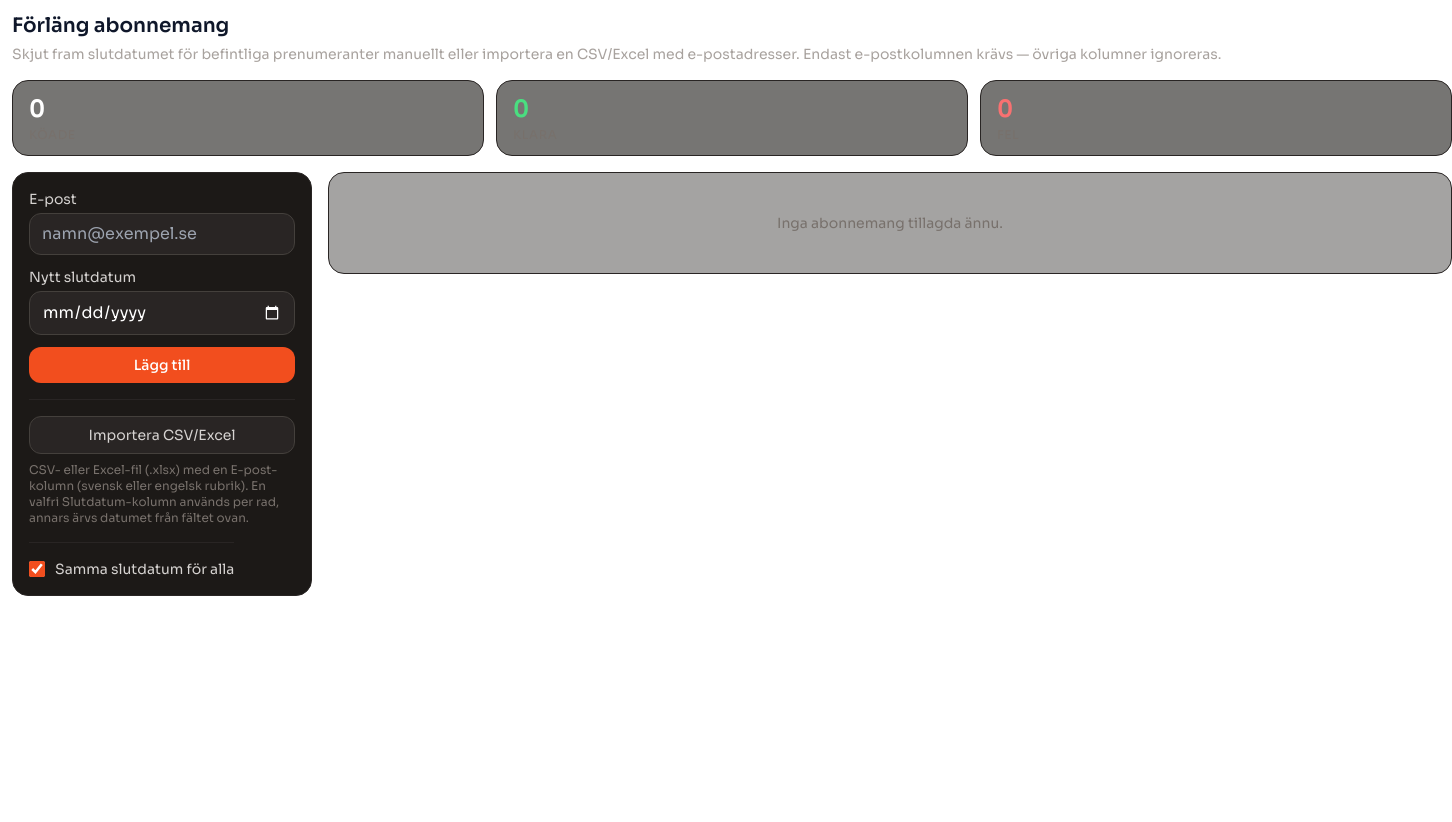
Test: ExtendSubscription › soft-deletes a selected row and restores it via undo
Type "anna@x.se" into the field with placeholder "namn@exempel.se". click: (162, 234)
box: x1=29 y1=213 x2=295 y2=255
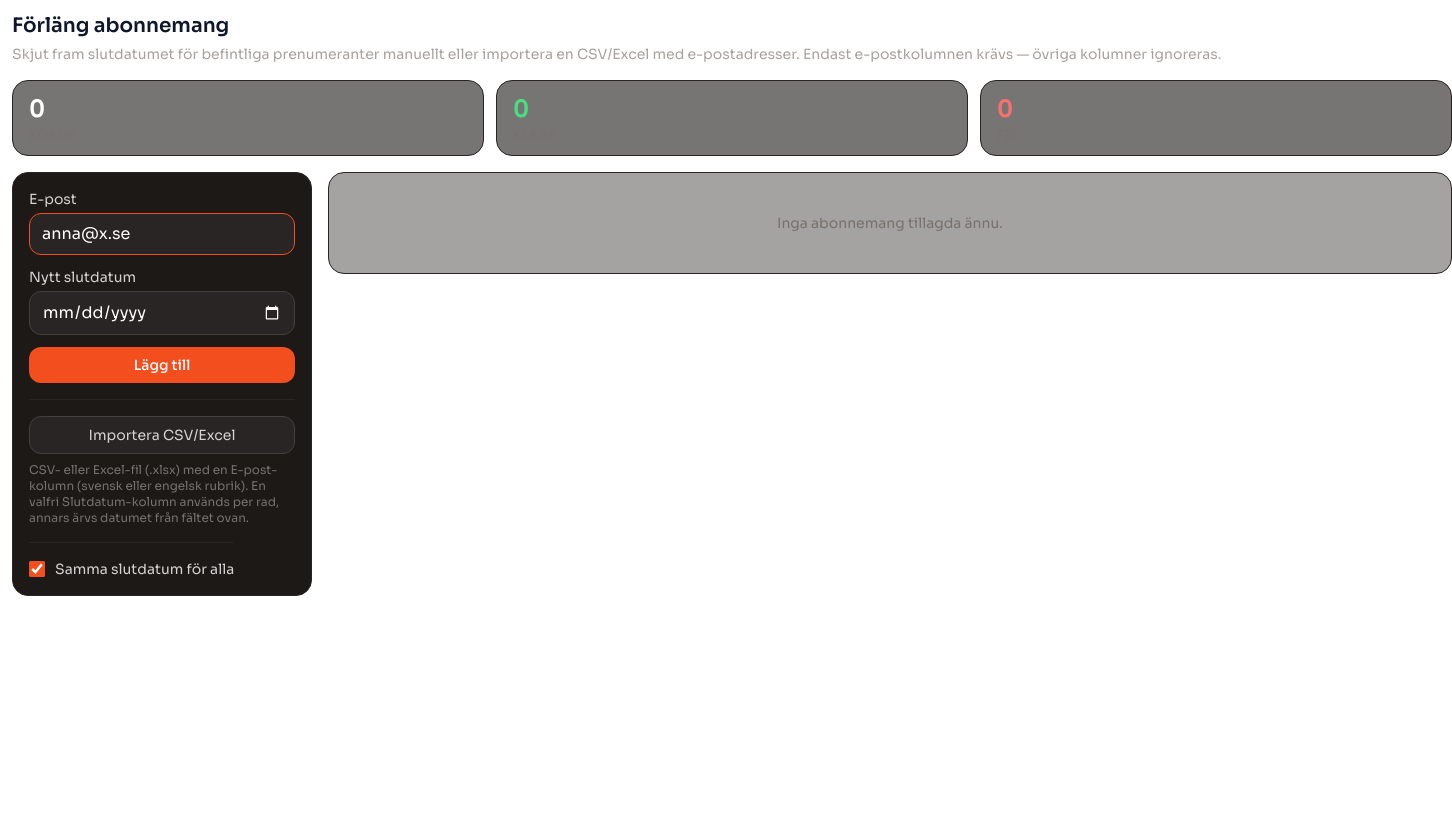
Click the button "Lägg till". click: (162, 365)
box: x1=29 y1=347 x2=295 y2=383
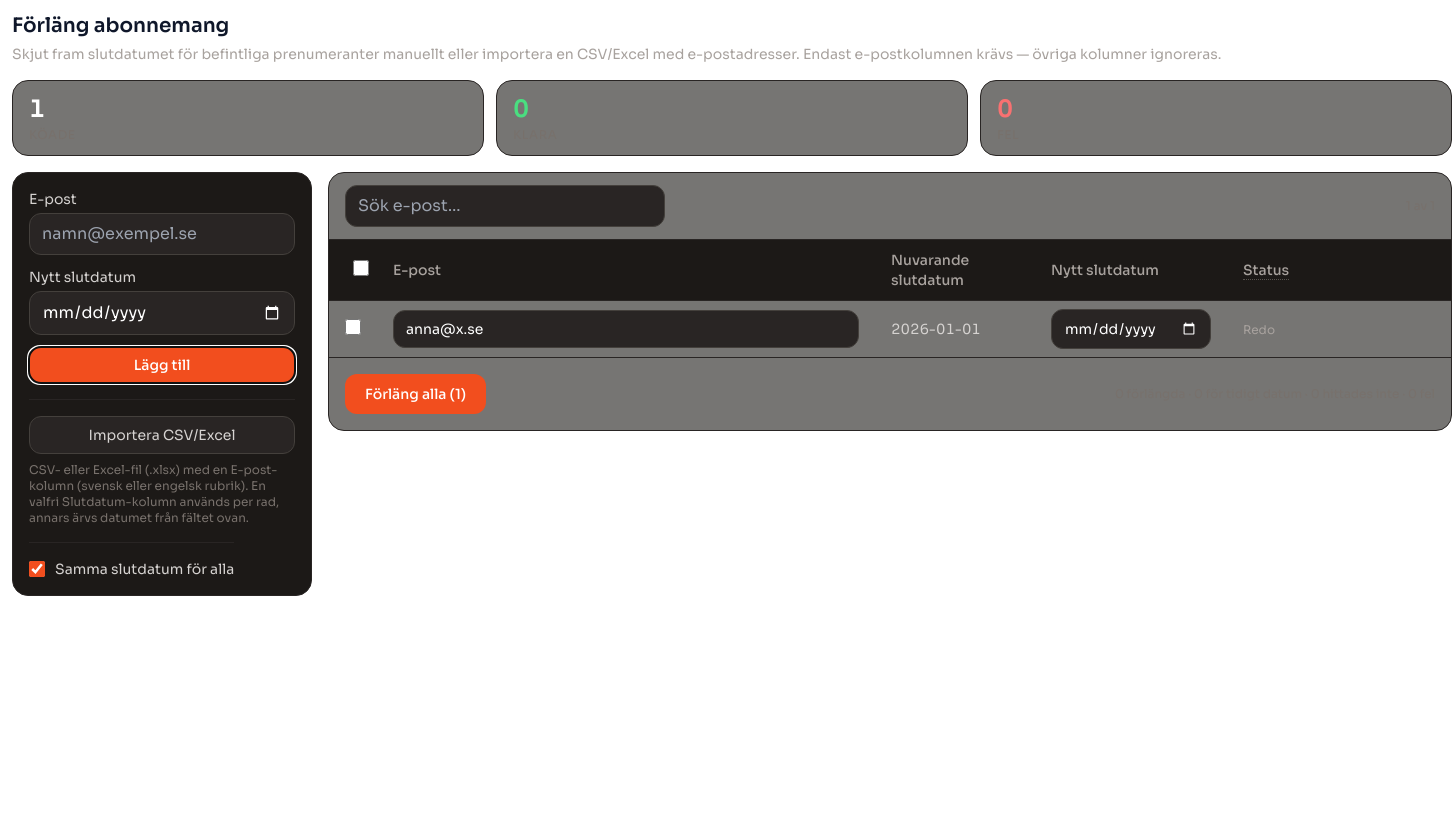
Result: the field showing "anna@x.se" is shown at x1=393 y1=310 x2=859 y2=348
Click the checkbox named "markera anna@x.se". click: (353, 326)
box: x1=345 y1=318 x2=361 y2=334
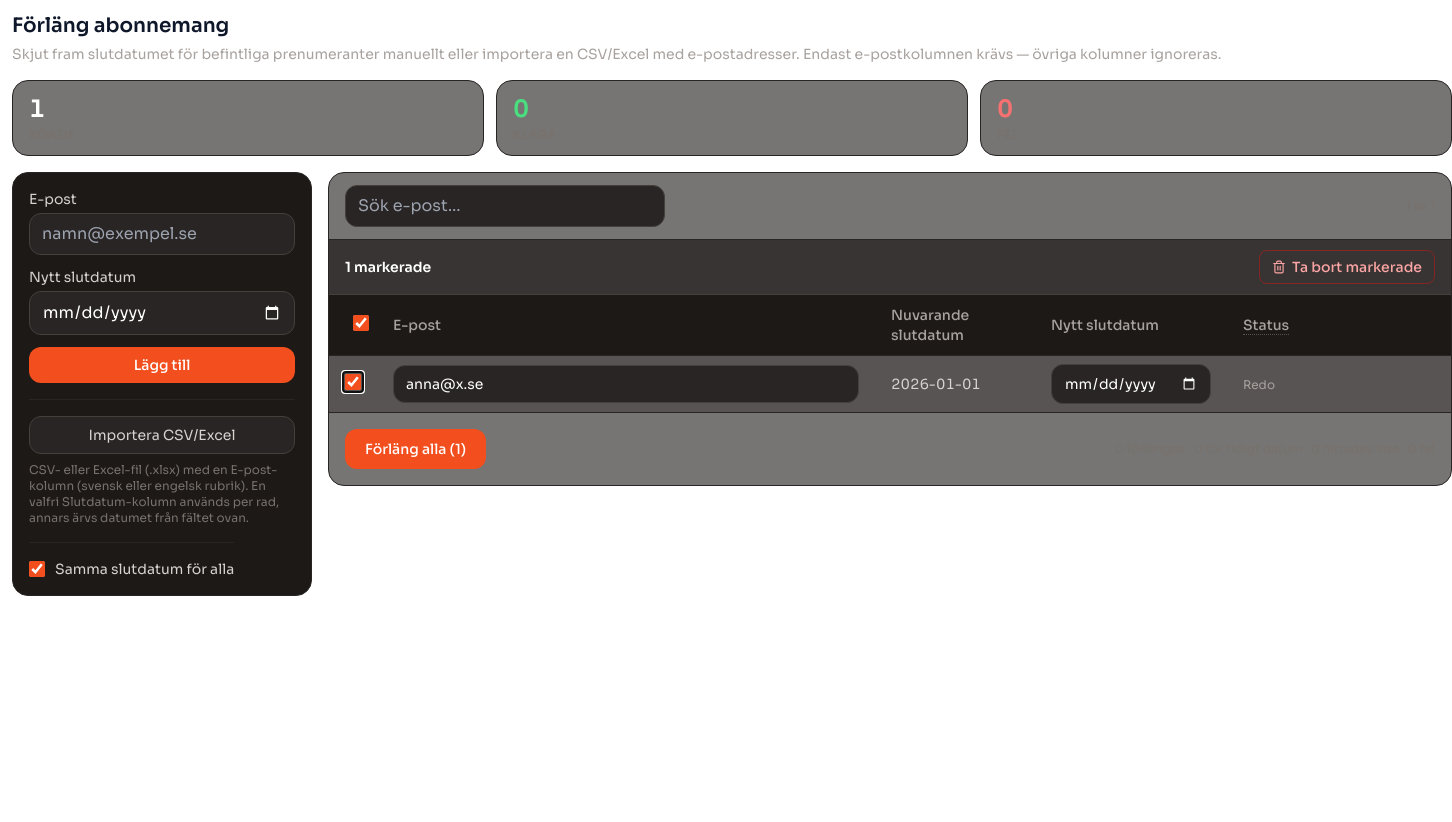
Click the button "Ta bort markerade". click: (1347, 267)
box: x1=1259 y1=250 x2=1435 y2=284
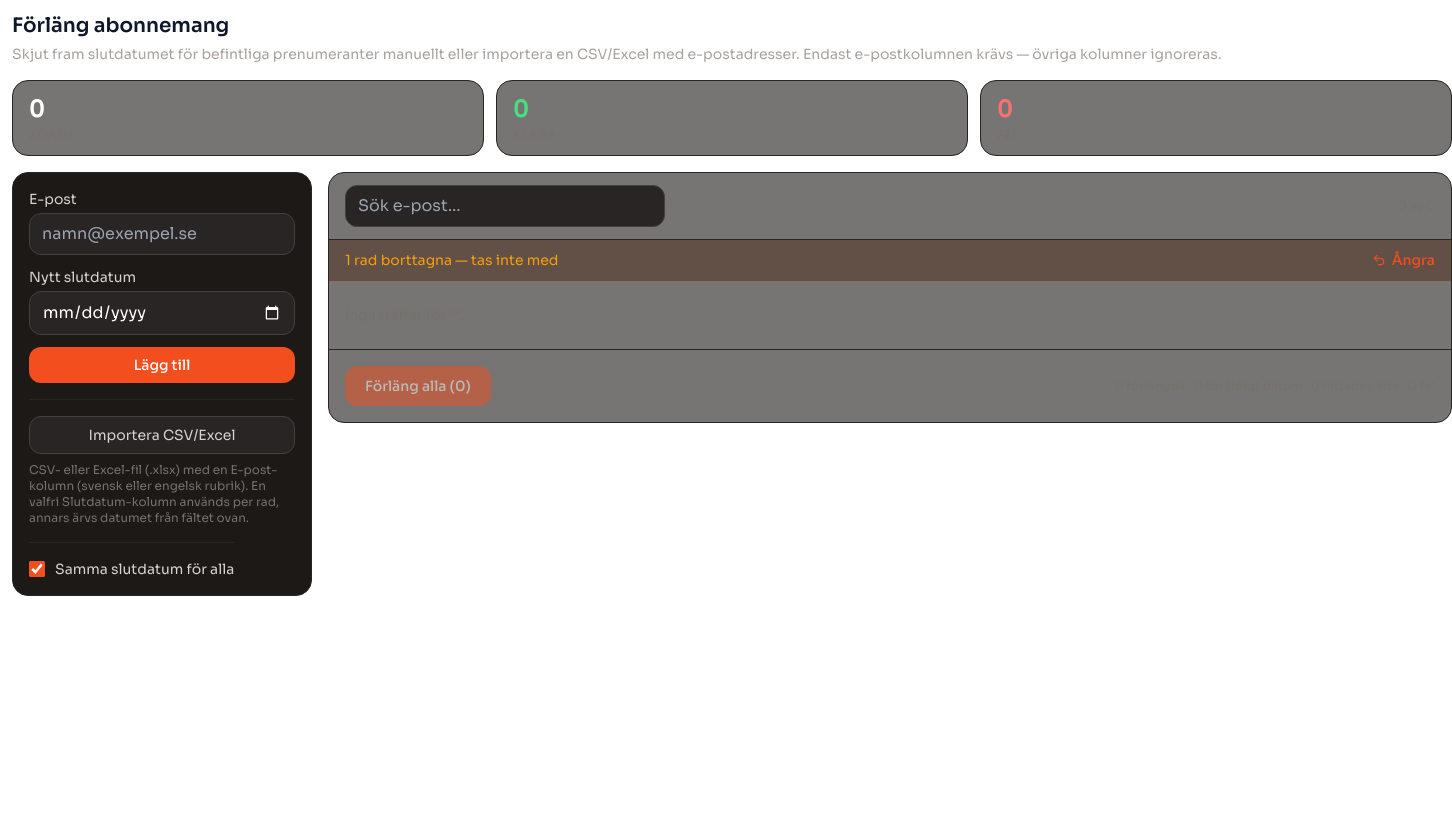
Expected: the field showing "anna@x.se" is not shown
Click the button "Ångra". click: (1403, 260)
box: x1=1372 y1=250 x2=1435 y2=270
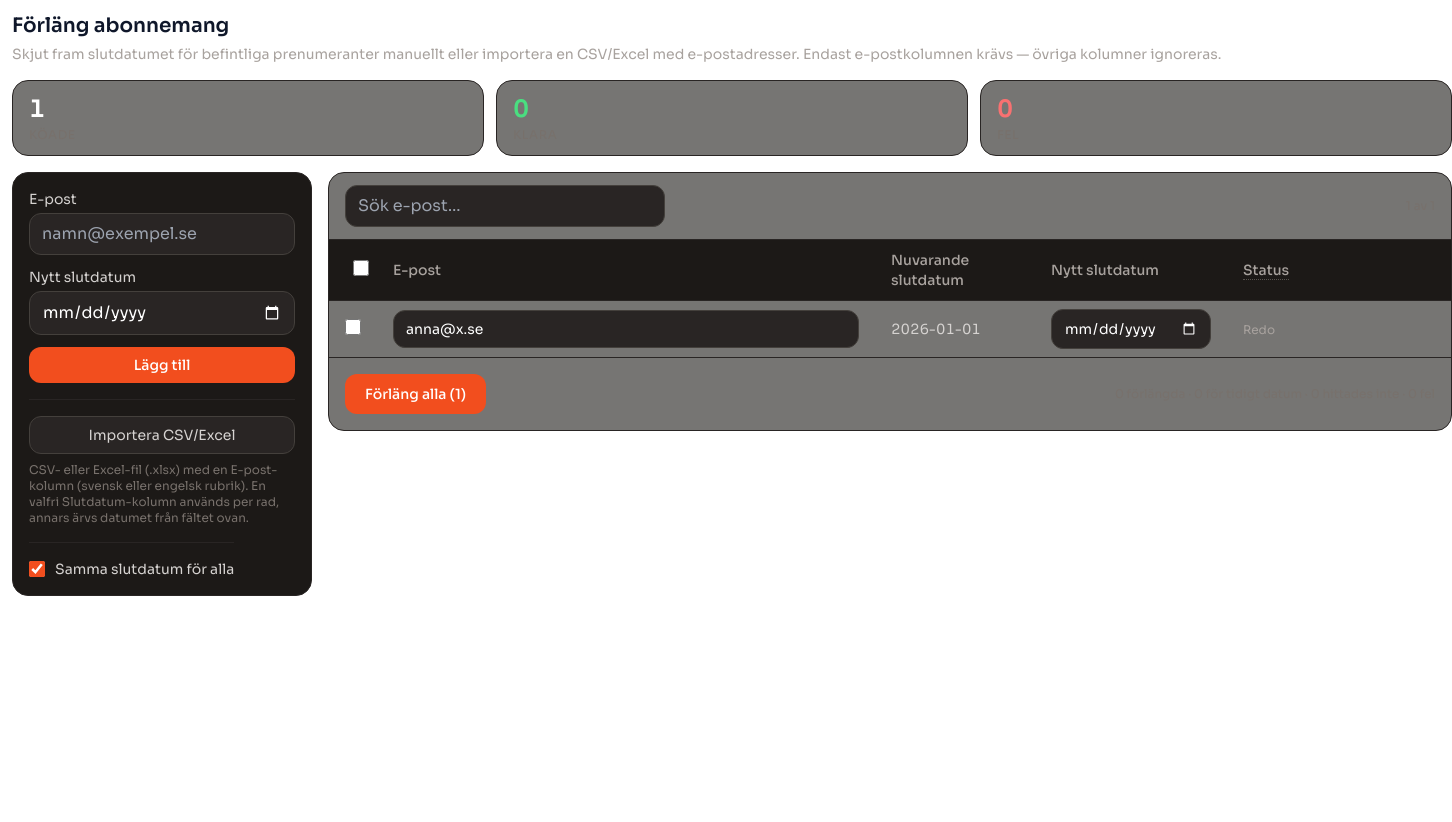
Result: the field showing "anna@x.se" is shown at x1=393 y1=310 x2=859 y2=348
